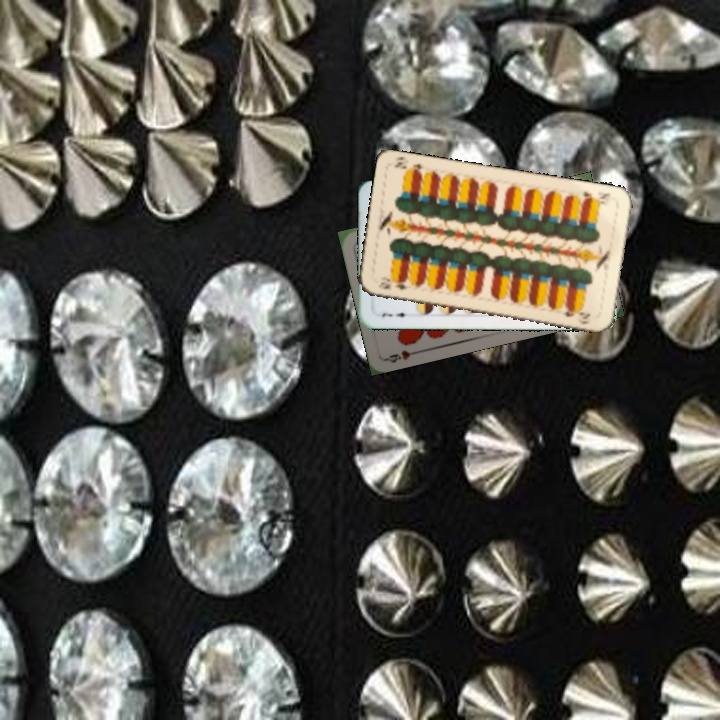E10: (579, 187, 613, 207), (375, 275, 413, 292)
E7: (378, 309, 413, 320)
H9: (382, 346, 423, 365)
